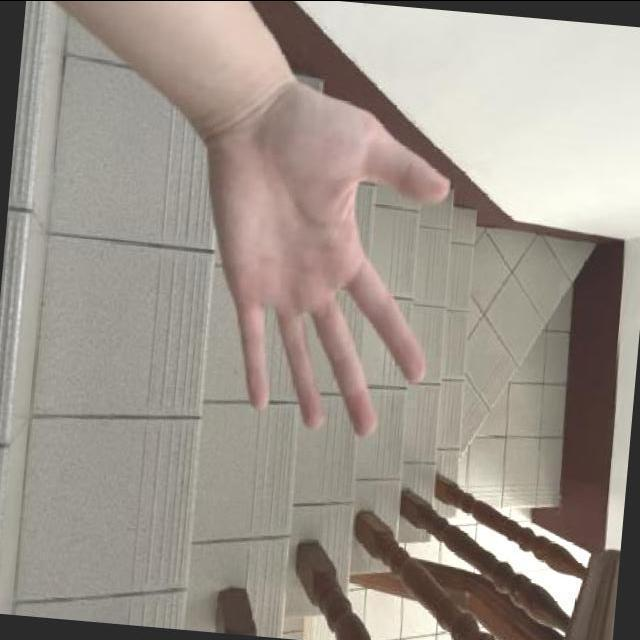hand: (174, 44, 480, 459)
